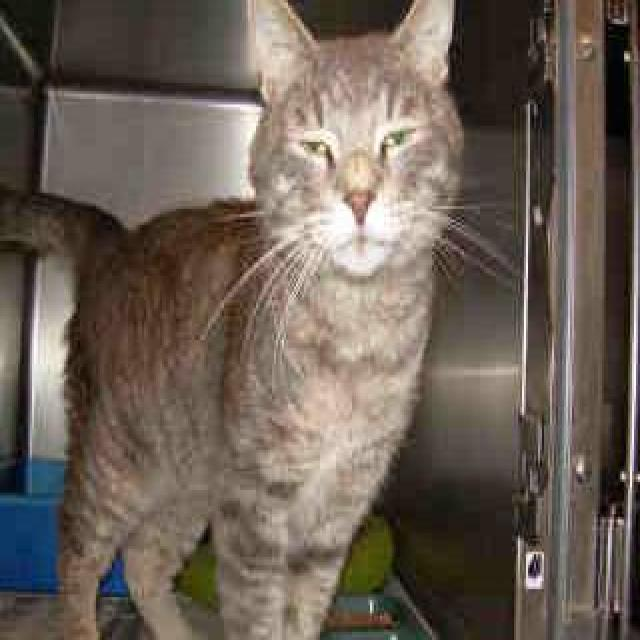cat: (28, 0, 518, 637)
